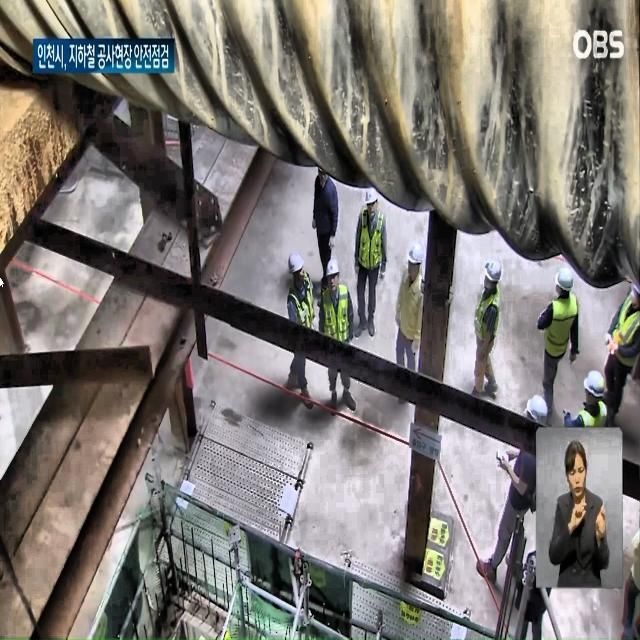safety_helmet: (523, 393, 551, 429), (581, 363, 606, 400), (553, 267, 580, 295), (484, 250, 501, 286), (361, 180, 380, 208), (287, 249, 304, 278), (323, 258, 339, 285), (408, 245, 425, 269)
safety_jacket: (543, 289, 577, 365), (609, 301, 640, 377), (575, 403, 608, 467), (288, 277, 316, 344), (358, 206, 386, 273), (322, 289, 351, 349), (474, 289, 500, 355)
